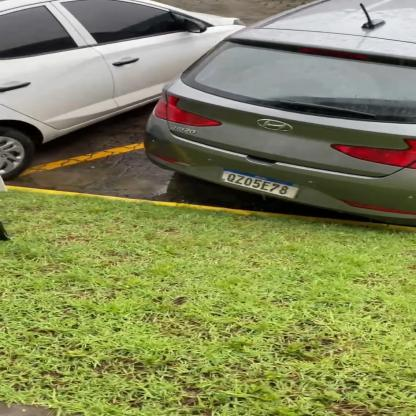Plate: (220, 164, 305, 202)
